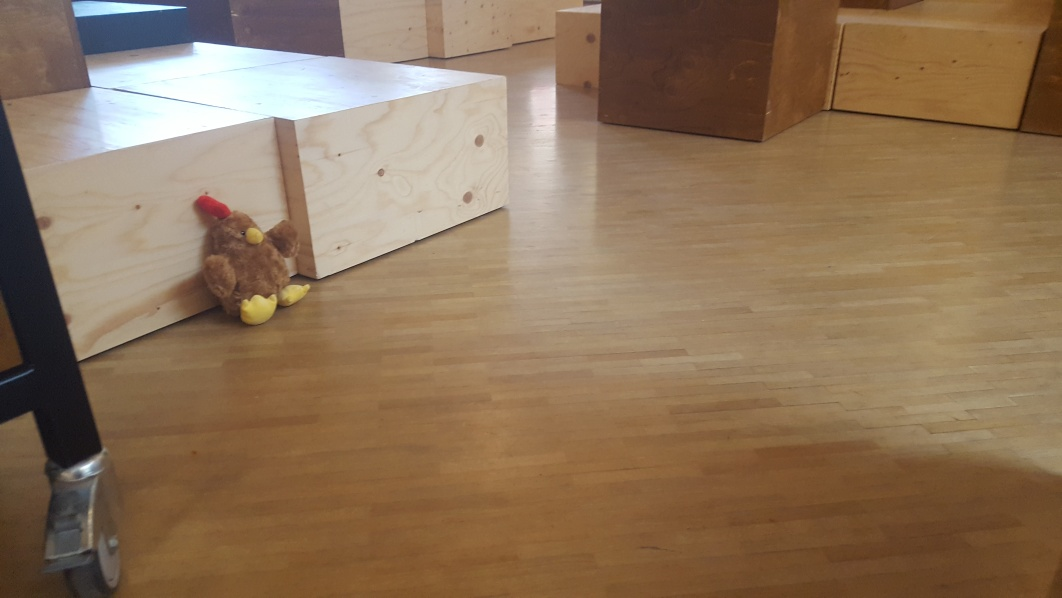chicken: (191, 192, 311, 325)
